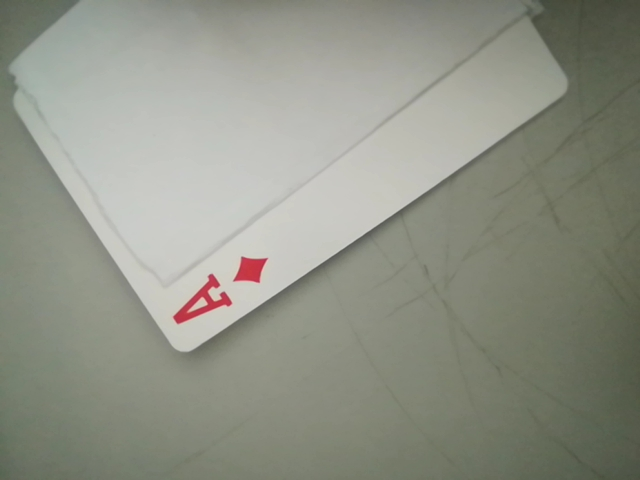fk a: (168, 250, 275, 335)
